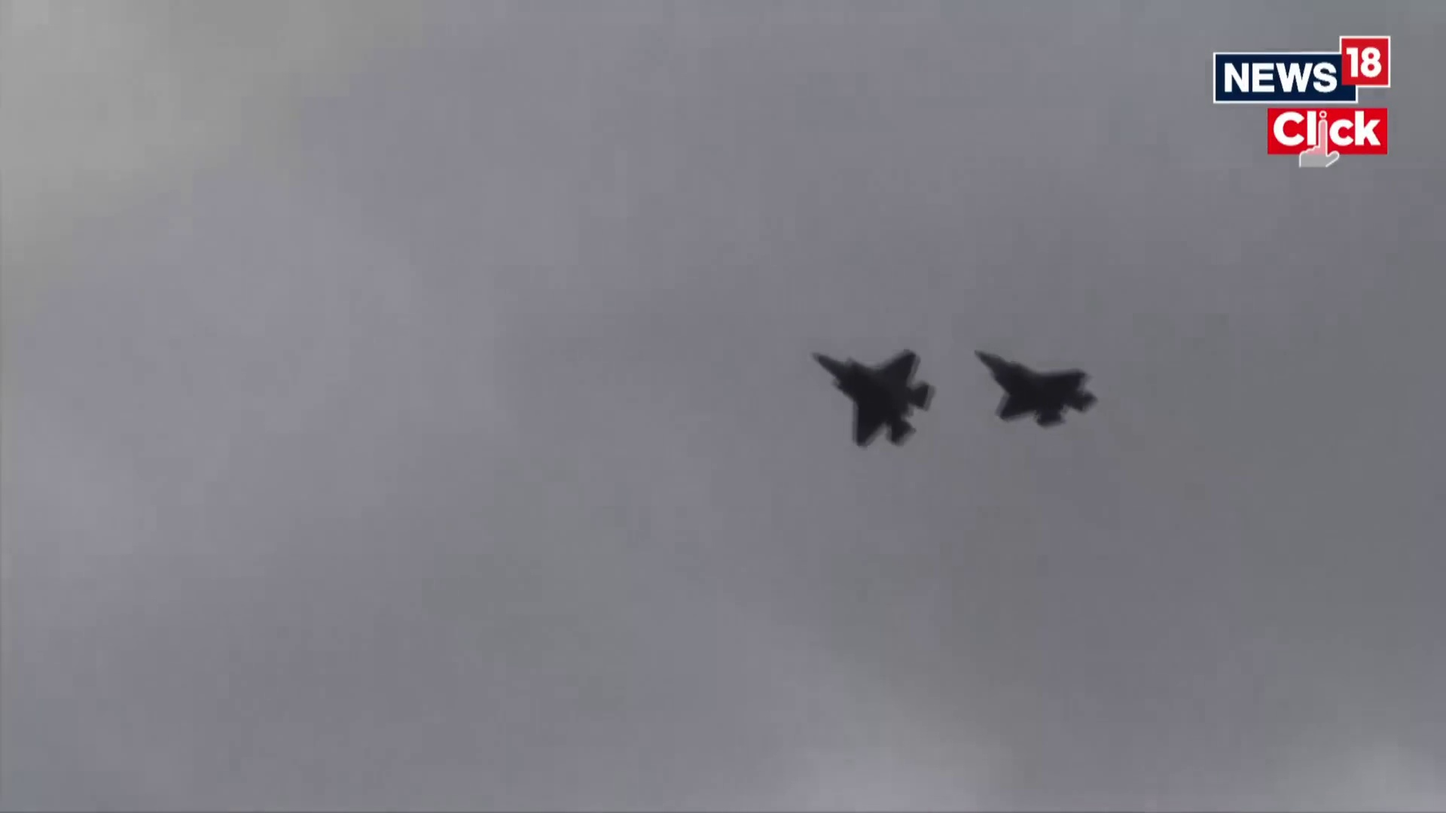F35: (813, 344, 936, 449), (973, 345, 1100, 429)
